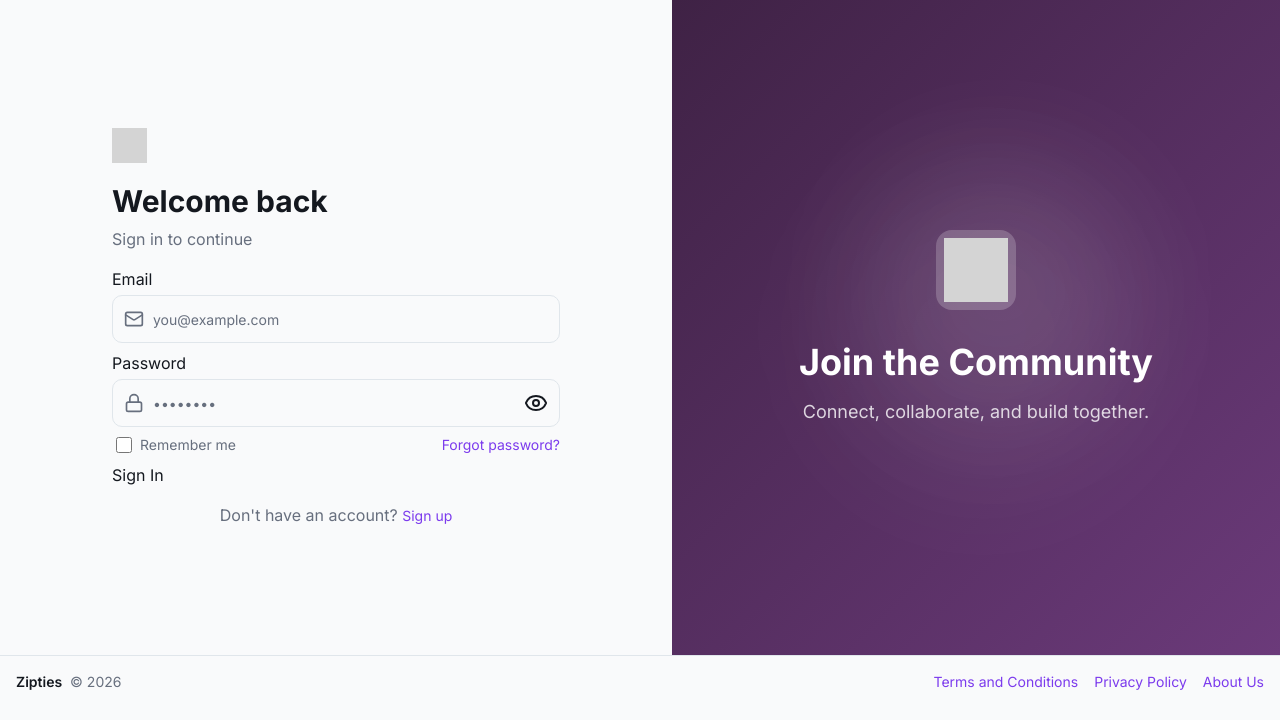
Test: Login Page › shows validation errors for empty inputs
This screenshot has width=1280, height=720.
Click the button "Sign In". click: [138, 475]
box: [112, 463, 164, 487]
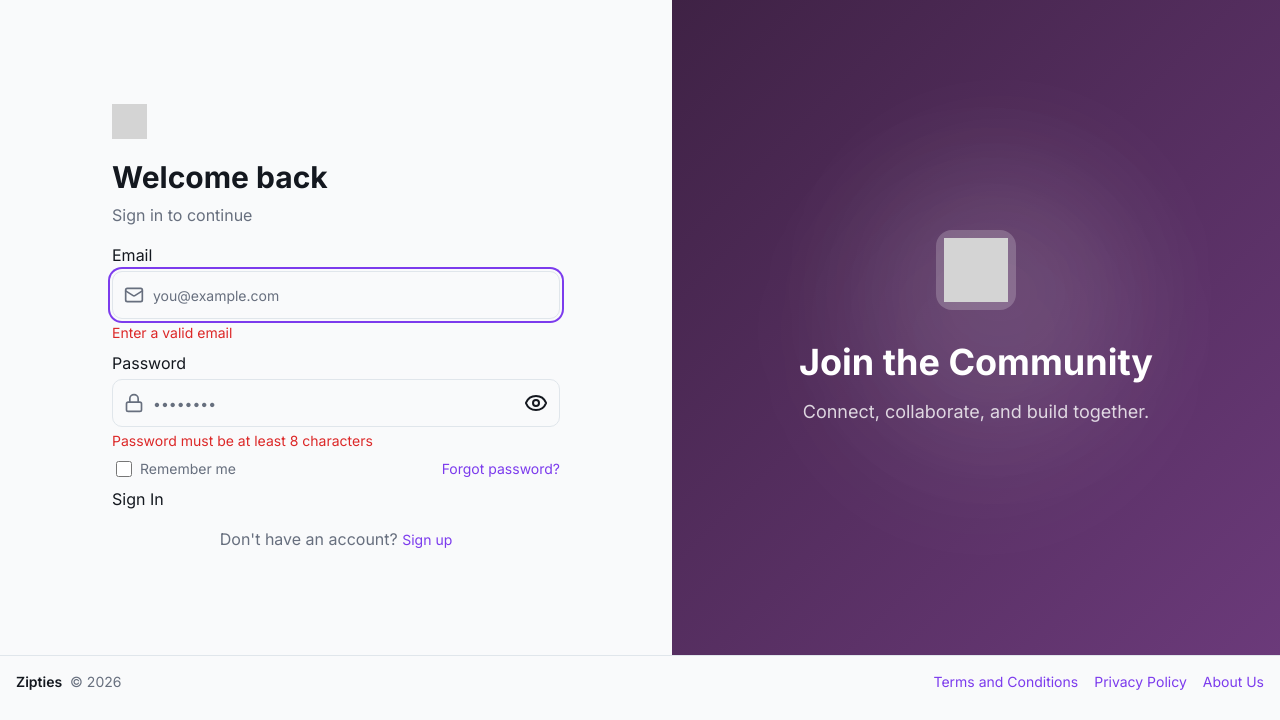
Check: the text "Enter a valid email" is shown, box [112, 324, 232, 341]
Check: the text "Password must be at least 8 characters" is shown, box [112, 432, 373, 449]
